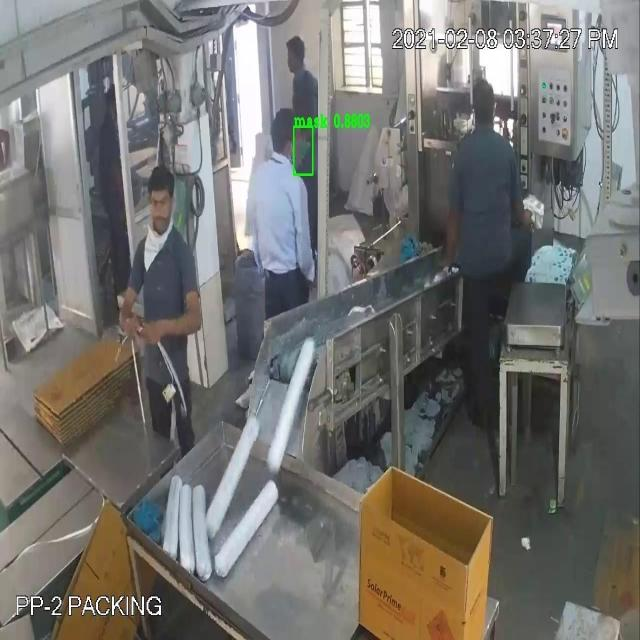No_Gloves: (41, 56, 175, 320)
